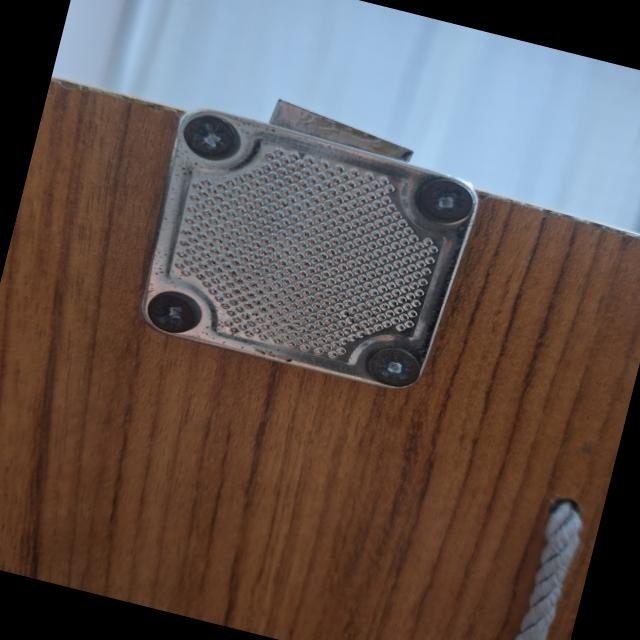Pozidriv: (138, 287, 209, 344), (418, 172, 486, 231), (175, 109, 245, 165), (362, 340, 424, 393)
